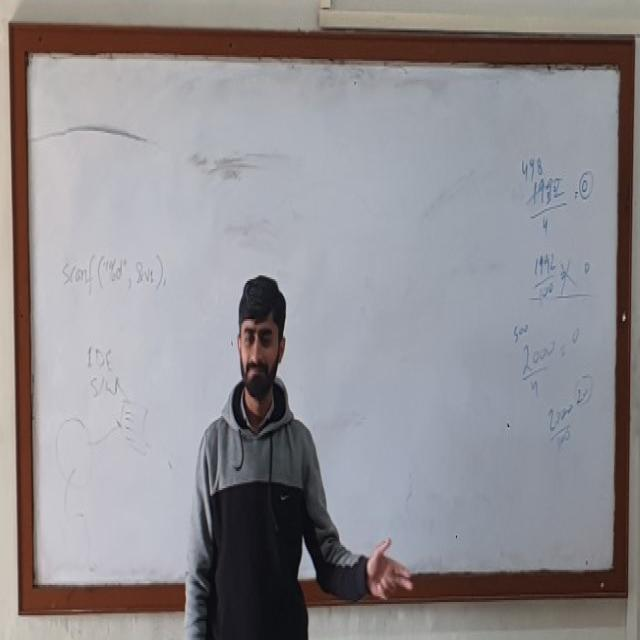Instructor: (195, 258, 317, 640)
White-board: (23, 26, 627, 599)
